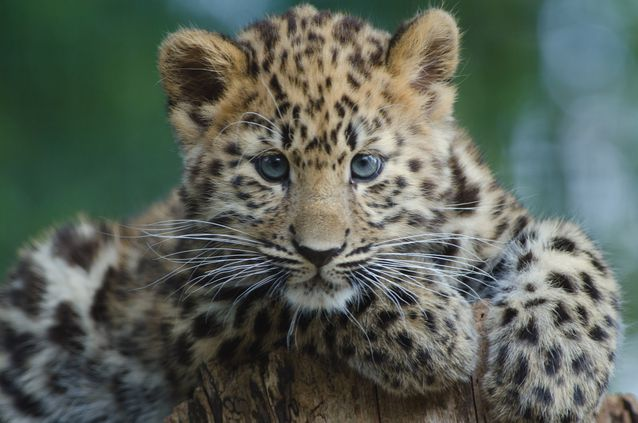amur_leopard: (113, 5, 528, 392)
